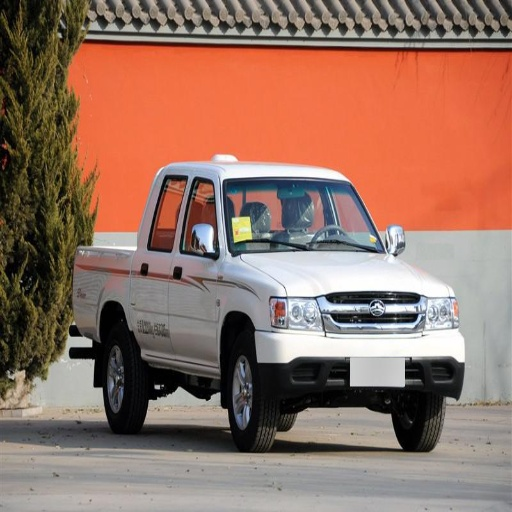front_bumper: (255, 291, 467, 406)
front_left_light: (423, 296, 459, 332)
front_right_door: (170, 176, 221, 363)
front_right_light: (270, 293, 322, 331)
hood: (241, 254, 451, 295)
trunk: (75, 248, 135, 335)
